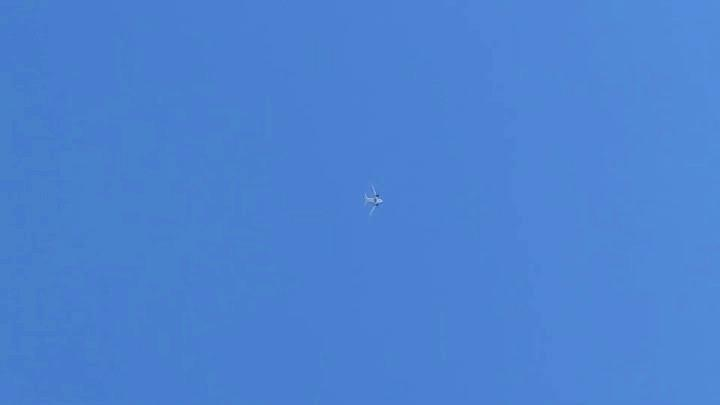Plane: (346, 180, 400, 222)
